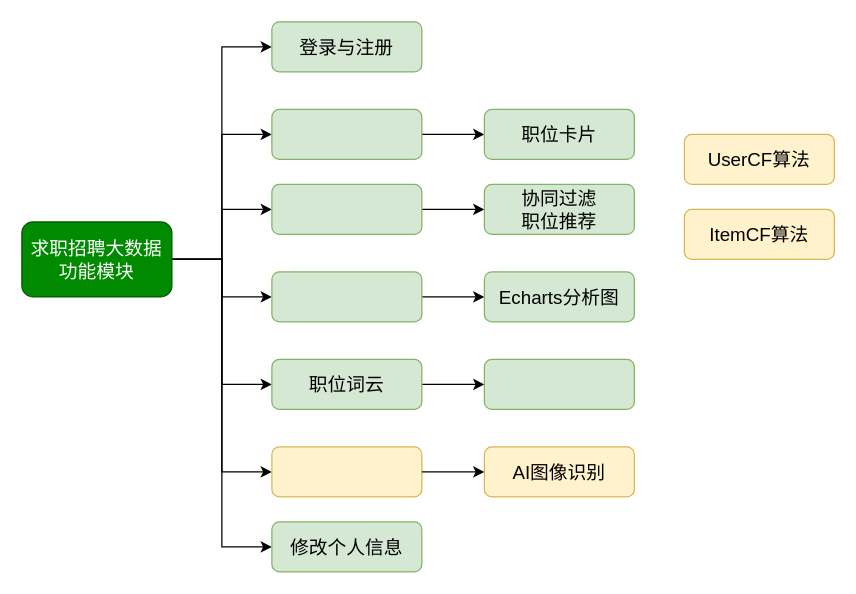
Image size: 856x594. Some labels were removed from this diagram. Here are the shapes that lost their labels. From the top down, the centre of each, then its label:
At point (346, 133): "首页".
At point (346, 208): "职位库".
At point (346, 296): "职位分析".
At point (558, 383): "公司福利词云".
At point (346, 471): "身份证识别".
